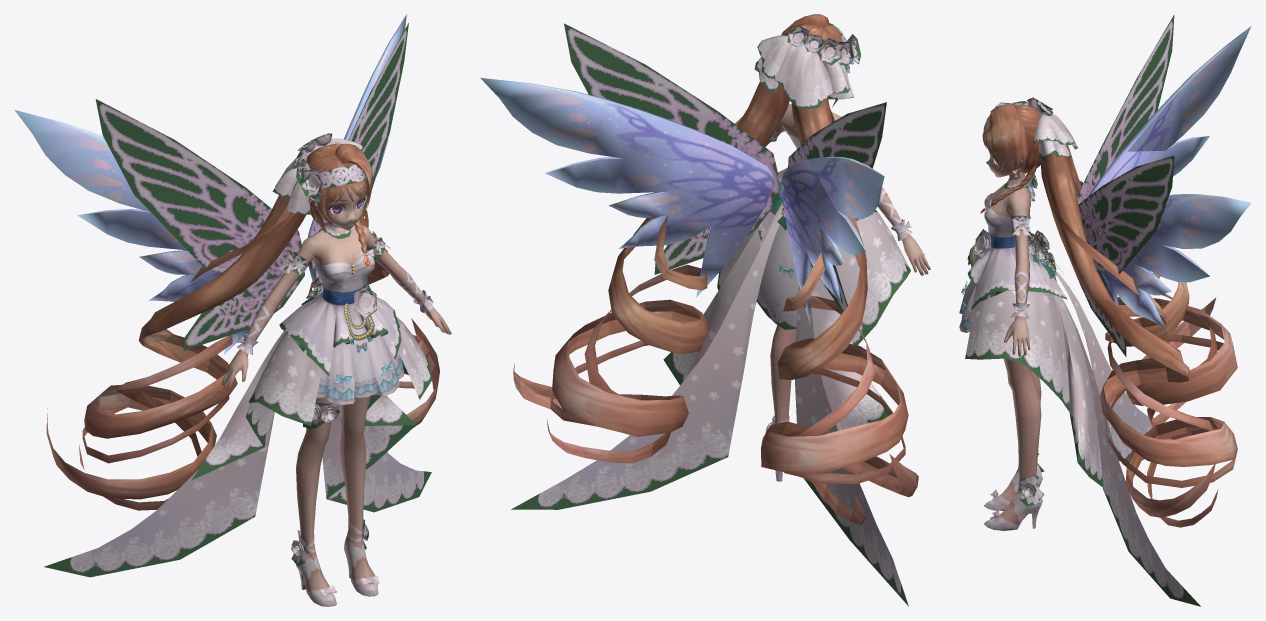
Rendered from blessGirl.glb.
The picture shows the model from 3 angles, left to right: view 1: azimuth 30°, elevation 25°; view 2: azimuth 150°, elevation 25°; view 3: azimuth 270°, elevation 25°; orthographic projection. The views are drawn at different scales.
Parts seen in each view (by area): view 1: obj098; view 2: obj098; view 3: obj098.
Boxes of the visible parts, <box> form: obj098: <box>14,14,451,606</box>; obj098: <box>480,14,930,606</box>; obj098: <box>959,15,1251,606</box>.
Bounding box in the file's own units: 51.79 × 59.89 × 36.13.
1 material, 1 textured.
